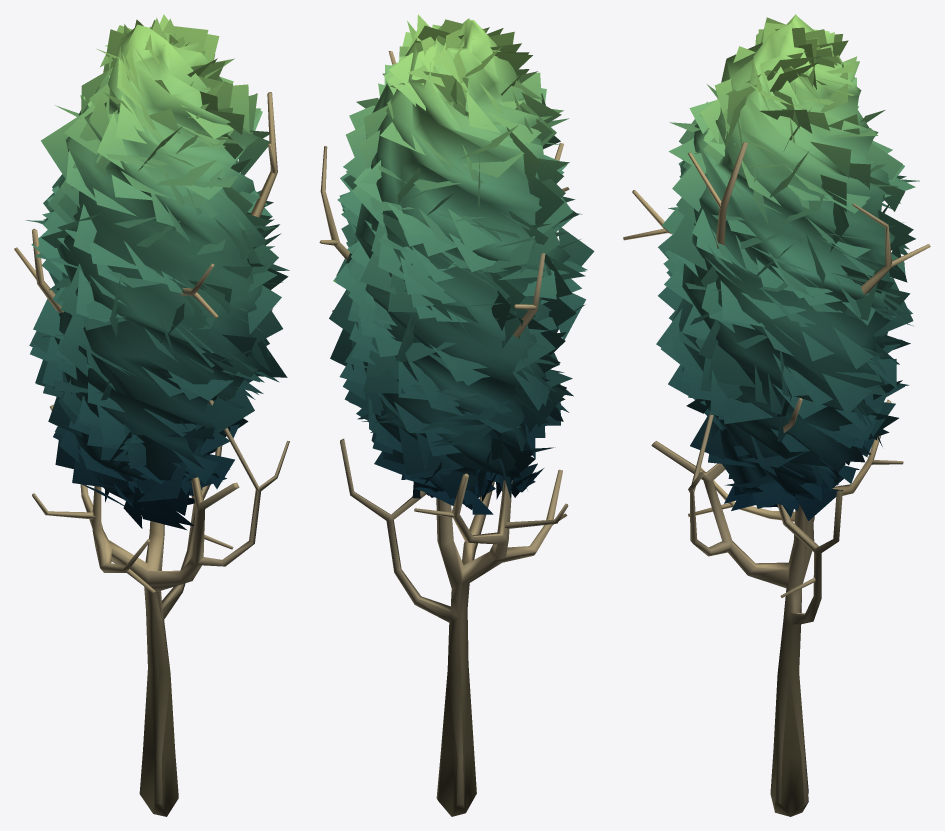
Rendered from Forest_Tree_5D.fbx.
3 renders of one model, left to right at view 1: azimuth 30°, elevation 25°; view 2: azimuth 150°, elevation 25°; view 3: azimuth 270°, elevation 25°, orthographic.
Parts seen in each view (by area): view 1: Forest_Tree_5D; view 2: Forest_Tree_5D; view 3: Forest_Tree_5D.
Boxes of the visible parts, x1=… form: Forest_Tree_5D: x1=14, y1=14, x2=289, y2=816; Forest_Tree_5D: x1=319, y1=14, x2=594, y2=816; Forest_Tree_5D: x1=623, y1=14, x2=930, y2=816.
Size of the model in its own units: 307 by 976 by 345.
